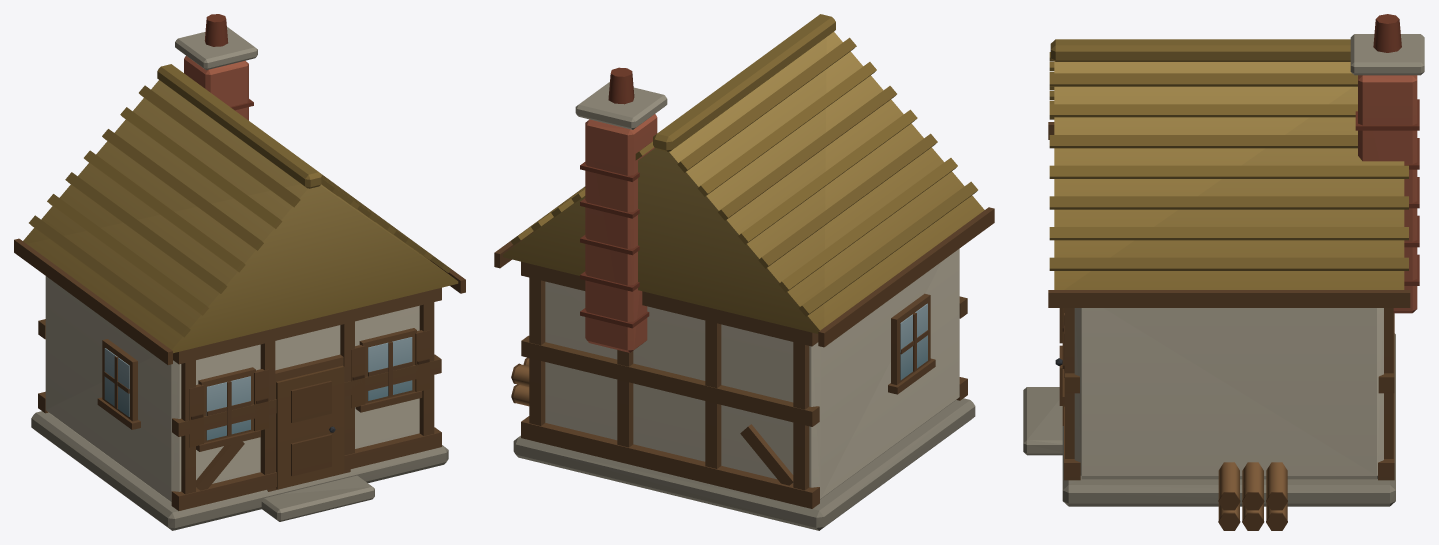
File: home-thatched-house-01.glb
The picture shows the model from 3 angles, left to right: view 1: azimuth 30°, elevation 25°; view 2: azimuth 150°, elevation 25°; view 3: azimuth 270°, elevation 25°; orthographic projection. The views are drawn at different scales.
Parts seen in each view (by area): view 1: home_thatched_house_01; view 2: home_thatched_house_01; view 3: home_thatched_house_01.
Boxes of the visible parts, bbox=[...] form: home_thatched_house_01: bbox=[14, 14, 465, 530]; home_thatched_house_01: bbox=[494, 14, 994, 530]; home_thatched_house_01: bbox=[1023, 14, 1424, 530].
Size of the model in its own units: 3.82 by 4.03 by 3.37.
